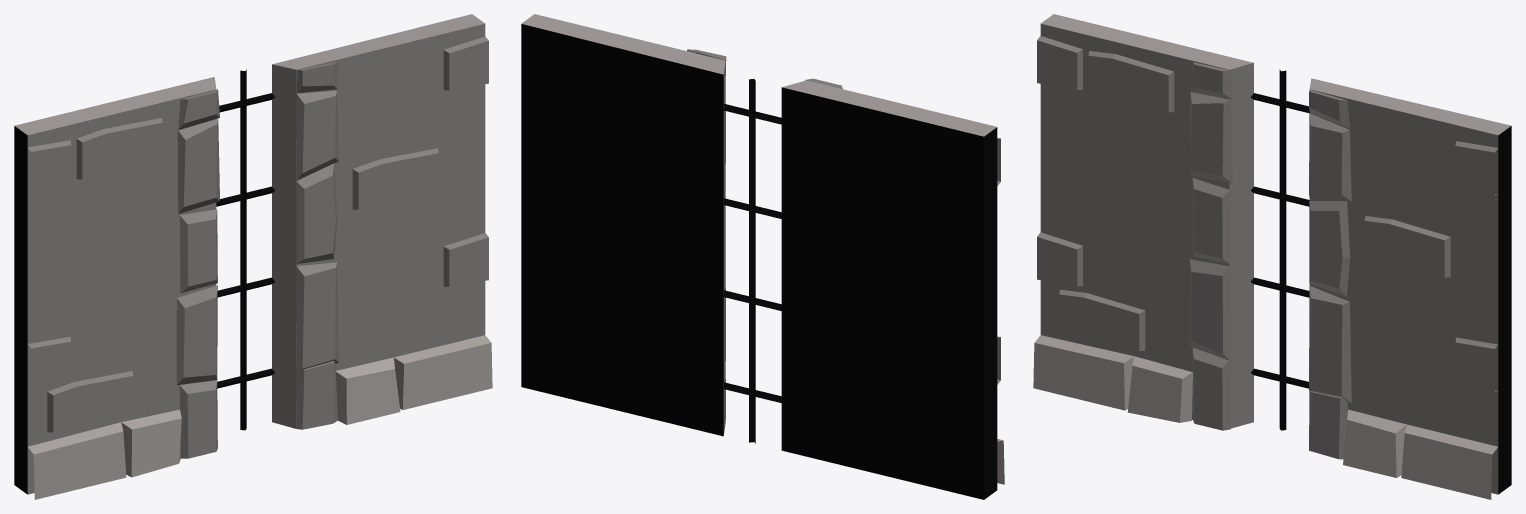
File: fantasy_dungeon-wall-window-middle-stone.fbx
3 views of the same model, side by side, from view 1: azimuth 30°, elevation 25°; view 2: azimuth 150°, elevation 25°; view 3: azimuth 330°, elevation 25° (orthographic).
Parts seen in each view (by area): view 1: fantasy_dungeon_wall_window_middle_stone; view 2: fantasy_dungeon_wall_window_middle_stone; view 3: fantasy_dungeon_wall_window_middle_stone.
Part boxes in pixels (box(x1,y1,x2,y2)): fantasy_dungeon_wall_window_middle_stone: box(14, 14, 492, 499); fantasy_dungeon_wall_window_middle_stone: box(521, 14, 1004, 499); fantasy_dungeon_wall_window_middle_stone: box(1033, 14, 1511, 499).
Size of the model in its own units: 200 by 151 by 16.41.
Materials: 1 (1 with a texture image).
